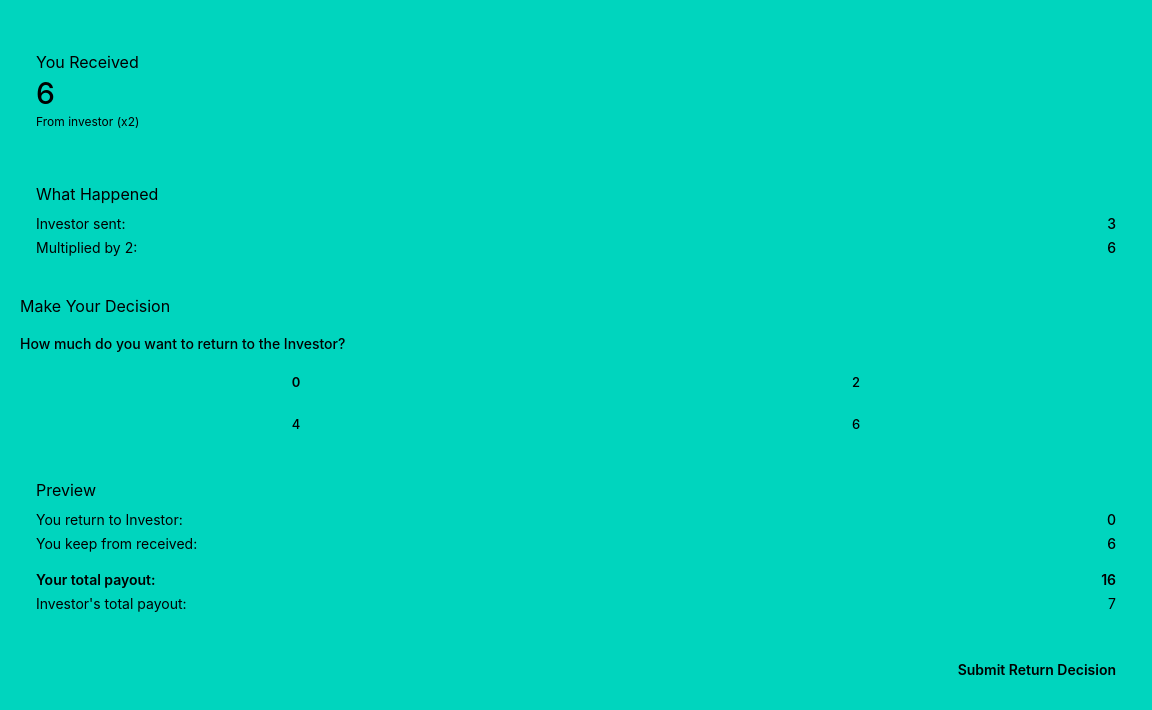
Test: TrusteeInterface › updates the preview to reflect the return choice
(page scrolled)
What coordinates should you click on to do the following:
click the button "4"
I would click on:
 (296, 424)
Its box is top-left (20, 408), bottom-right (572, 442).
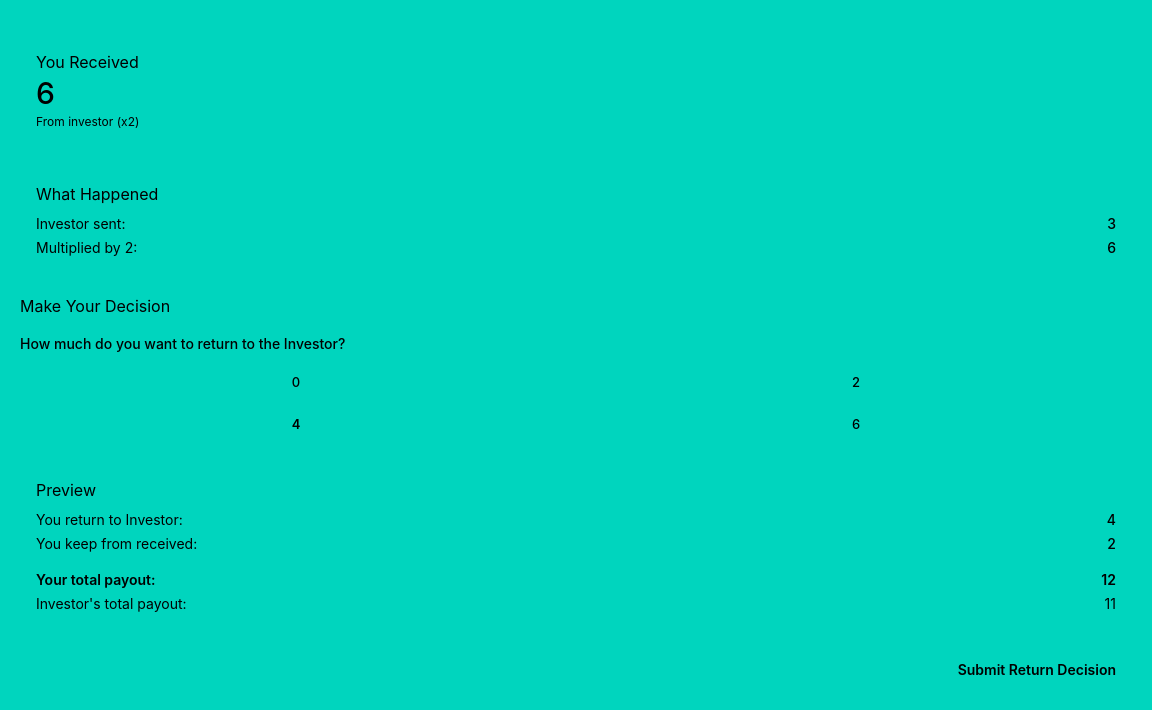
Expected: the text "4" is shown, top-left (1107, 510), bottom-right (1116, 530)
Expected: the text "2" is shown, top-left (1107, 534), bottom-right (1116, 554)
